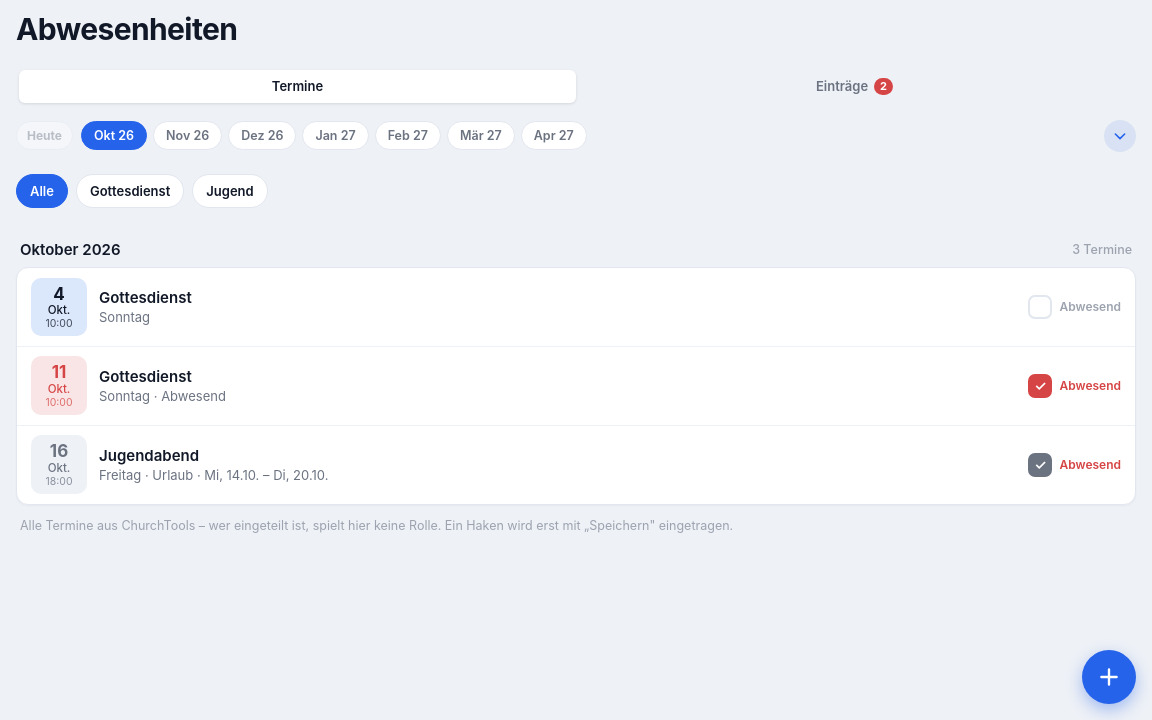
Abwesenheiten – ein Termin in einem Zeitraum fragt nach › ein weiterer Tipp nimmt die vorgemerkte Löschung zurück – ohne neue Rückfrage
Click the button with aria-label "Jugendabend".
click(1072, 465)  # box [1022, 449, 1121, 481]
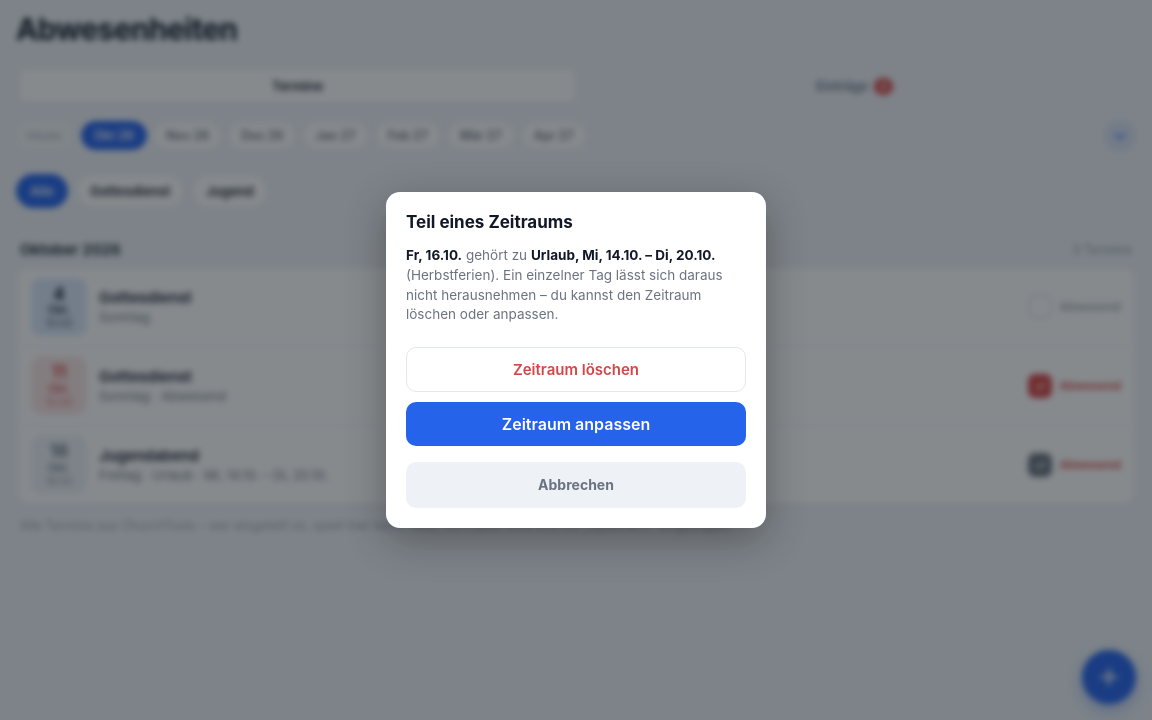
Click the button "Zeitraum löschen".
click(576, 369)  # box [406, 347, 746, 392]
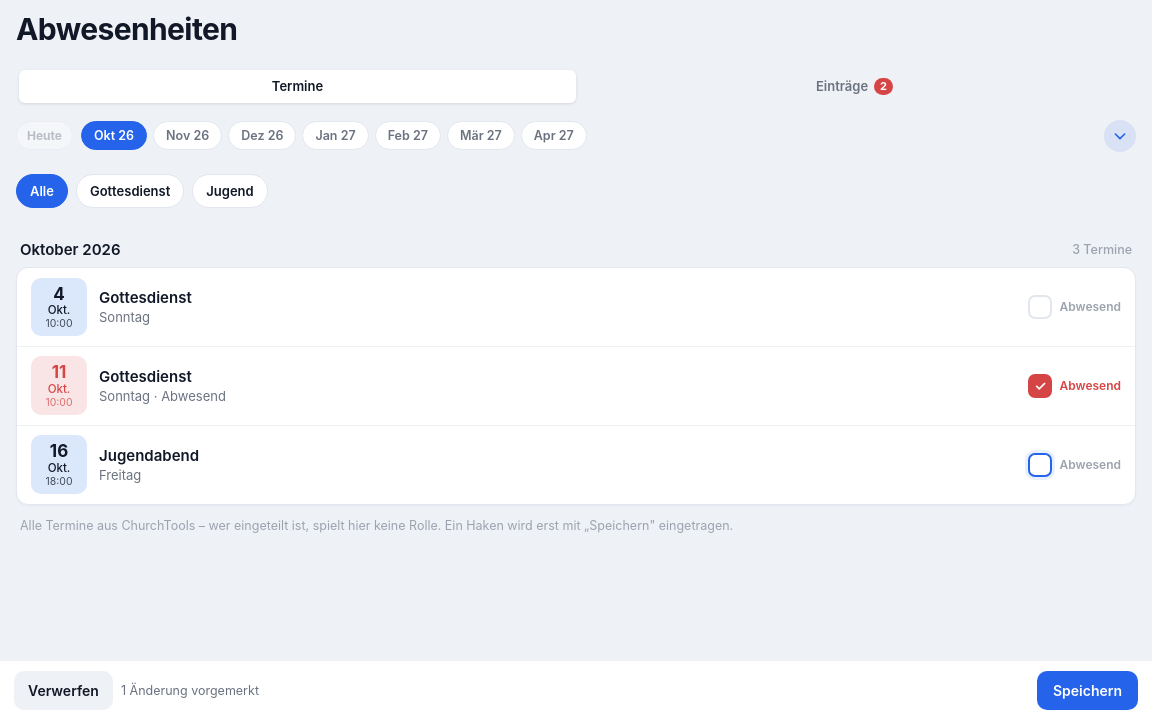
Click the button with aria-label "Jugendabend".
click(1072, 465)  # box [1022, 449, 1121, 481]
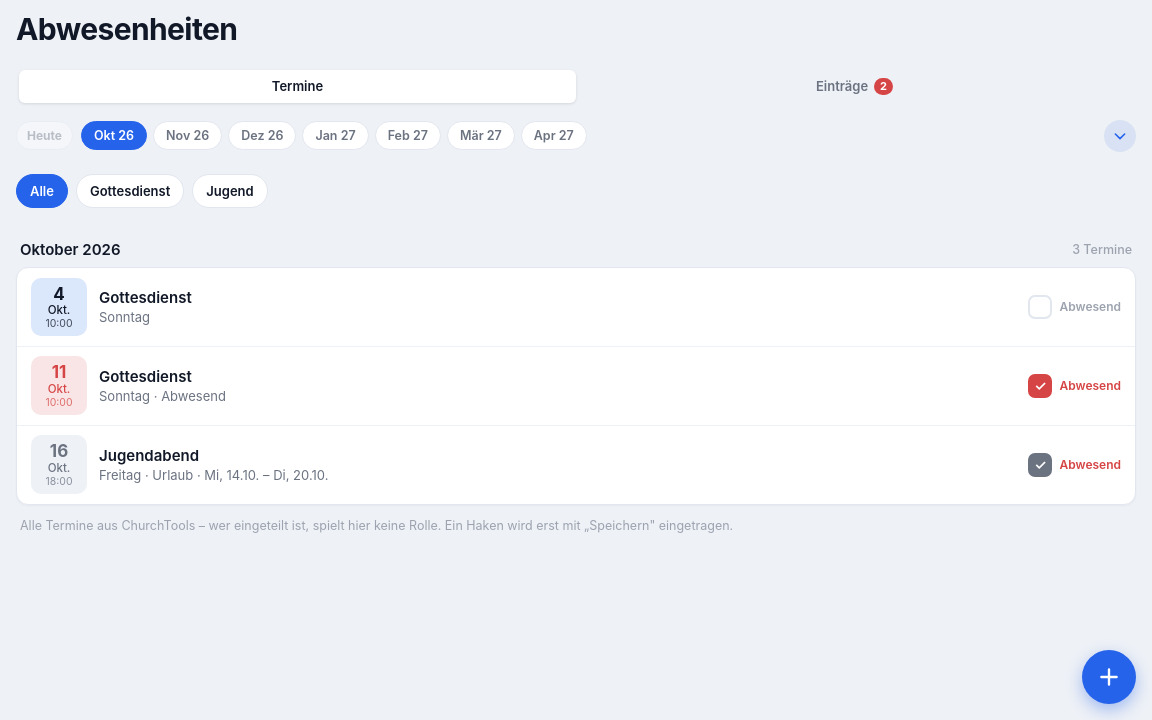
Expected: the text "Teil eines Zeitraums" is not shown
Now the message "Verwerfen 1 Änderung vorgemerkt Speichern" is gone
